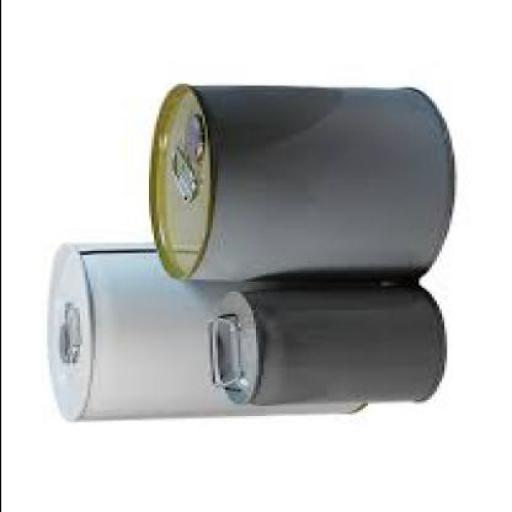metal: (145, 81, 446, 286), (38, 240, 364, 418), (206, 281, 440, 402)
